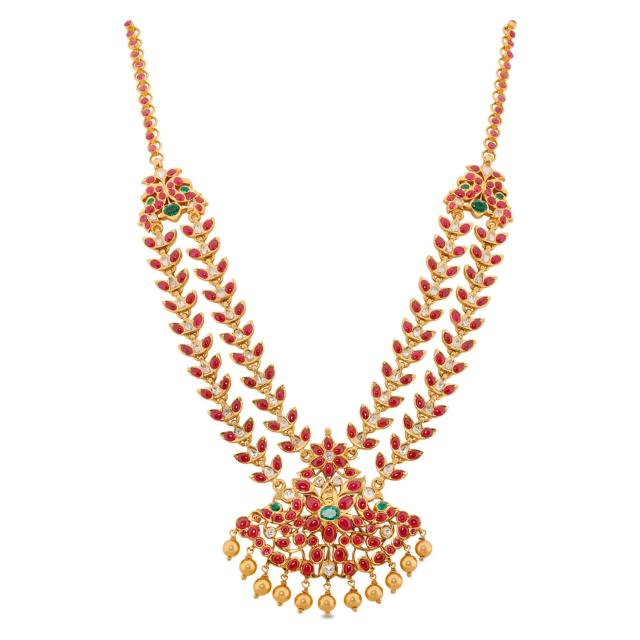missing gem: (322, 484, 336, 504), (250, 513, 262, 523)
